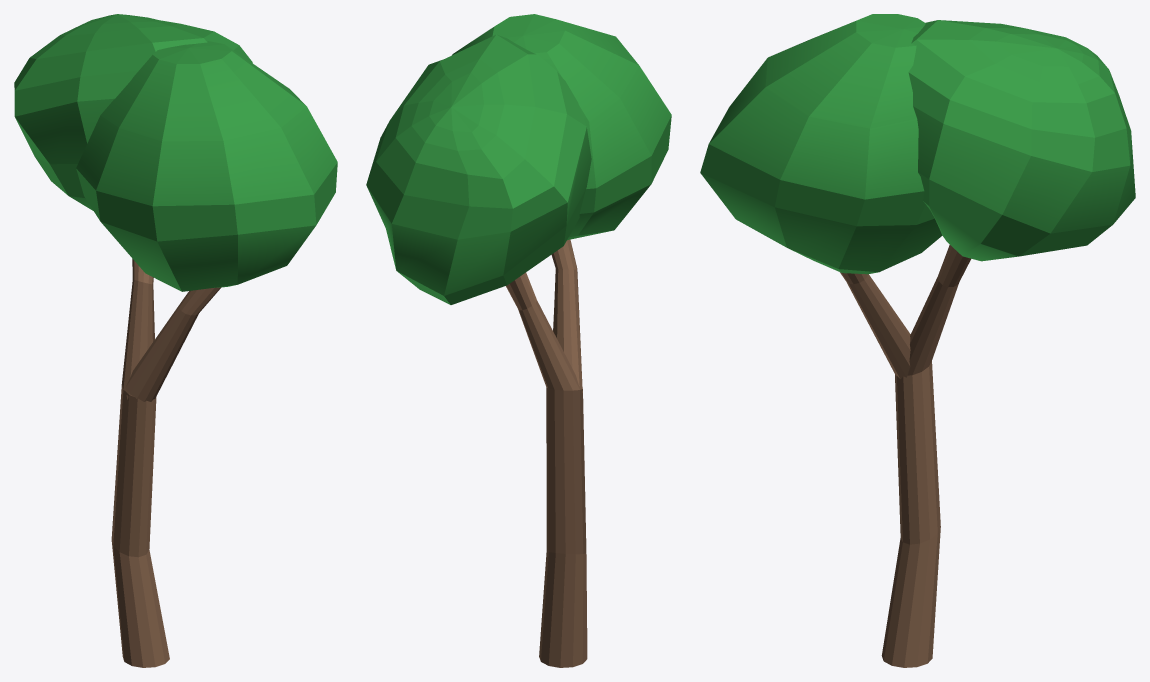
The model's file is Tree2.fbx.
The picture shows the model from 3 angles, left to right: view 1: azimuth 30°, elevation 25°; view 2: azimuth 150°, elevation 25°; view 3: azimuth 270°, elevation 25°; orthographic projection. The views are drawn at different scales.
Visible parts, largest first — view 1: Tree2; view 2: Tree2; view 3: Tree2.
Part boxes in pixels (x1=…): Tree2: x1=14, y1=14, x2=337, y2=667; Tree2: x1=366, y1=14, x2=671, y2=667; Tree2: x1=700, y1=14, x2=1135, y2=667.
Bounding box in the file's own units: 142 × 372 × 225.
